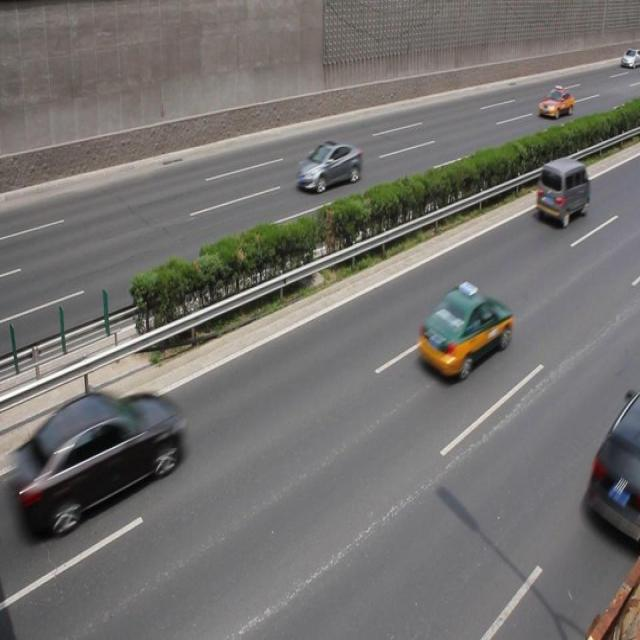car: (27, 387, 185, 537), (417, 284, 512, 380), (585, 401, 640, 542), (296, 138, 361, 196), (536, 85, 574, 118)
truck: (533, 157, 589, 227)
